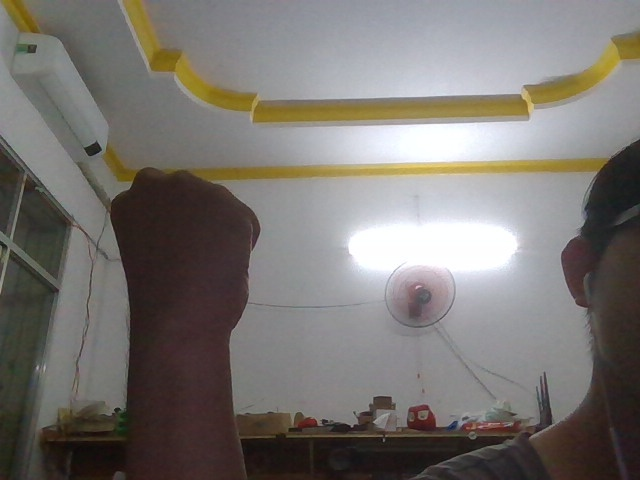fist: (72, 123, 291, 423)
